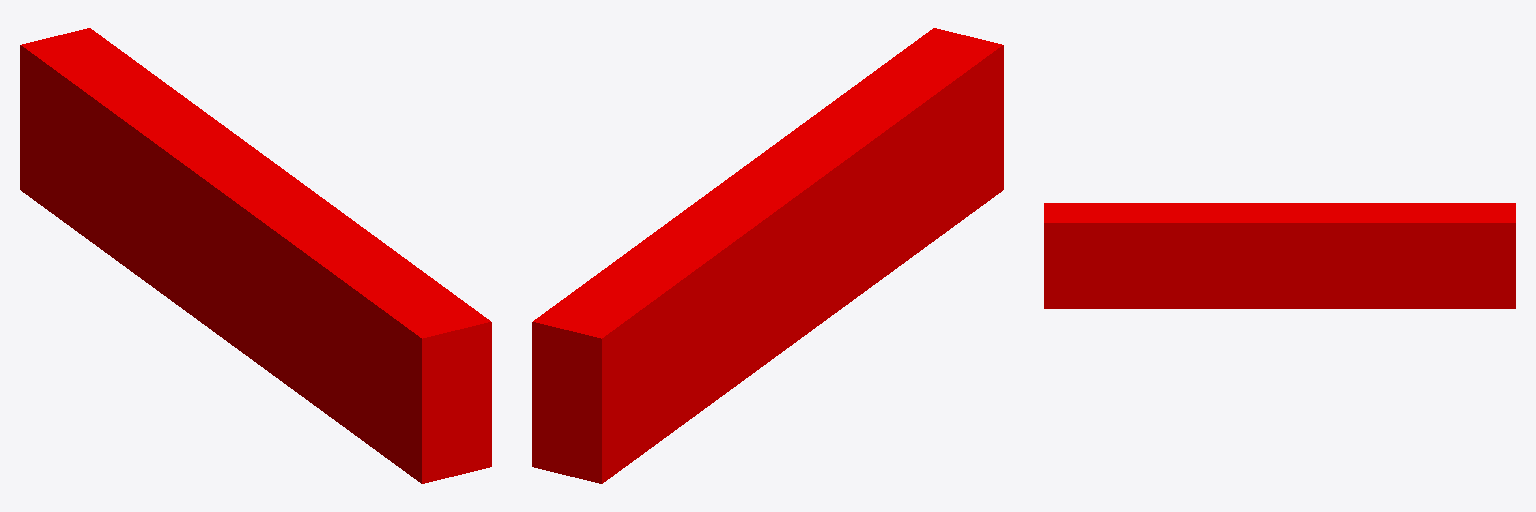
The robot description file, URDF, robot "ball":
<?xml version="0.0" ?>
<robot name="ball">
    <link name="wall">
        <contact>
            <lateral_friction value="1"/>
        </contact>

        <inertial>
            <origin xyz="0 0 0" rpy="0 0 0"/>
            <mass value="0.0"/>
            <inertia ixx="0"  ixy="0"  ixz="0" iyy="0" iyz="0" izz="0" />
        </inertial>

        <visual>
            <origin xyz="0 0 0" rpy="0 0 0" />
            <geometry>
                <box size="0.1 1.0 0.2" />
            </geometry>
            <material name="Red">
                <color rgba="1.0 0.0 0.0 1.0"/>
            </material>
        </visual>

        <collision>
            <origin xyz="0 0 0" rpy="0 0 0"/>
            <geometry>
                <box size="0.1 1.0 0.2" />
            </geometry>
        </collision>
    </link>
</robot>

--- What the picture shows (computed from the rendered views, not written in the file) ---
The picture shows the robot from 3 angles, left to right: view 1: azimuth 30°, elevation 25°; view 2: azimuth 150°, elevation 25°; view 3: azimuth 270°, elevation 25°; orthographic projection.
Model ball with 1 links and 0 joints (none), rooted at wall, posed all joints at 0.
Visible links, largest first — view 1: wall; view 2: wall; view 3: wall.
Boxes of the visible links, x1,y1,x2,y2 form: wall: [20, 28, 491, 483]; wall: [532, 28, 1003, 483]; wall: [1044, 203, 1515, 308].
Size in the robot's own frame: 0.1 by 1 by 0.2 metres.
Geometry: primitives only (box / cylinder / sphere), no mesh files.